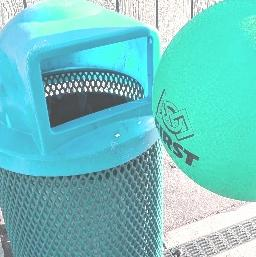algae: (149, 0, 256, 197)
